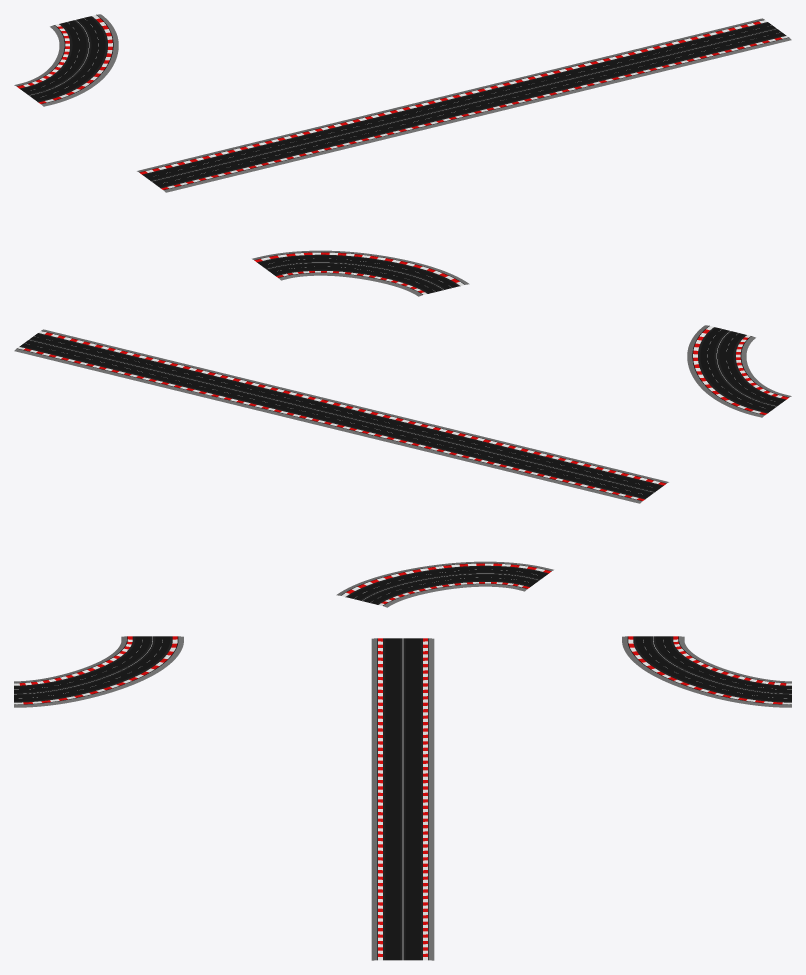
File: S0.1c1-2l3-3r2-triway.glb
The picture shows the model from 3 angles, top to bottom: view 1: azimuth 30°, elevation 25°; view 2: azimuth 150°, elevation 25°; view 3: azimuth 270°, elevation 25°; orthographic projection. The views are drawn at different scales.
Visible parts, largest first — view 1: Grid.001, Grid, Grid.002; view 2: Grid.001, Grid.002, Grid; view 3: Grid.001, Grid, Grid.002.
Boxes of the visible parts, x1=… form: Grid.001: x1=137, y1=18, x2=791, y2=192; Grid: x1=252, y1=250, x2=469, y2=296; Grid.002: x1=14, y1=14, x2=118, y2=106; Grid.001: x1=14, y1=329, x2=668, y2=503; Grid.002: x1=336, y1=561, x2=553, y2=607; Grid: x1=687, y1=325, x2=791, y2=417; Grid.001: x1=371, y1=638, x2=434, y2=960; Grid: x1=14, y1=636, x2=183, y2=707; Grid.002: x1=622, y1=636, x2=791, y2=707.
Size of the model in its own units: 306 by 0.31 by 311.
